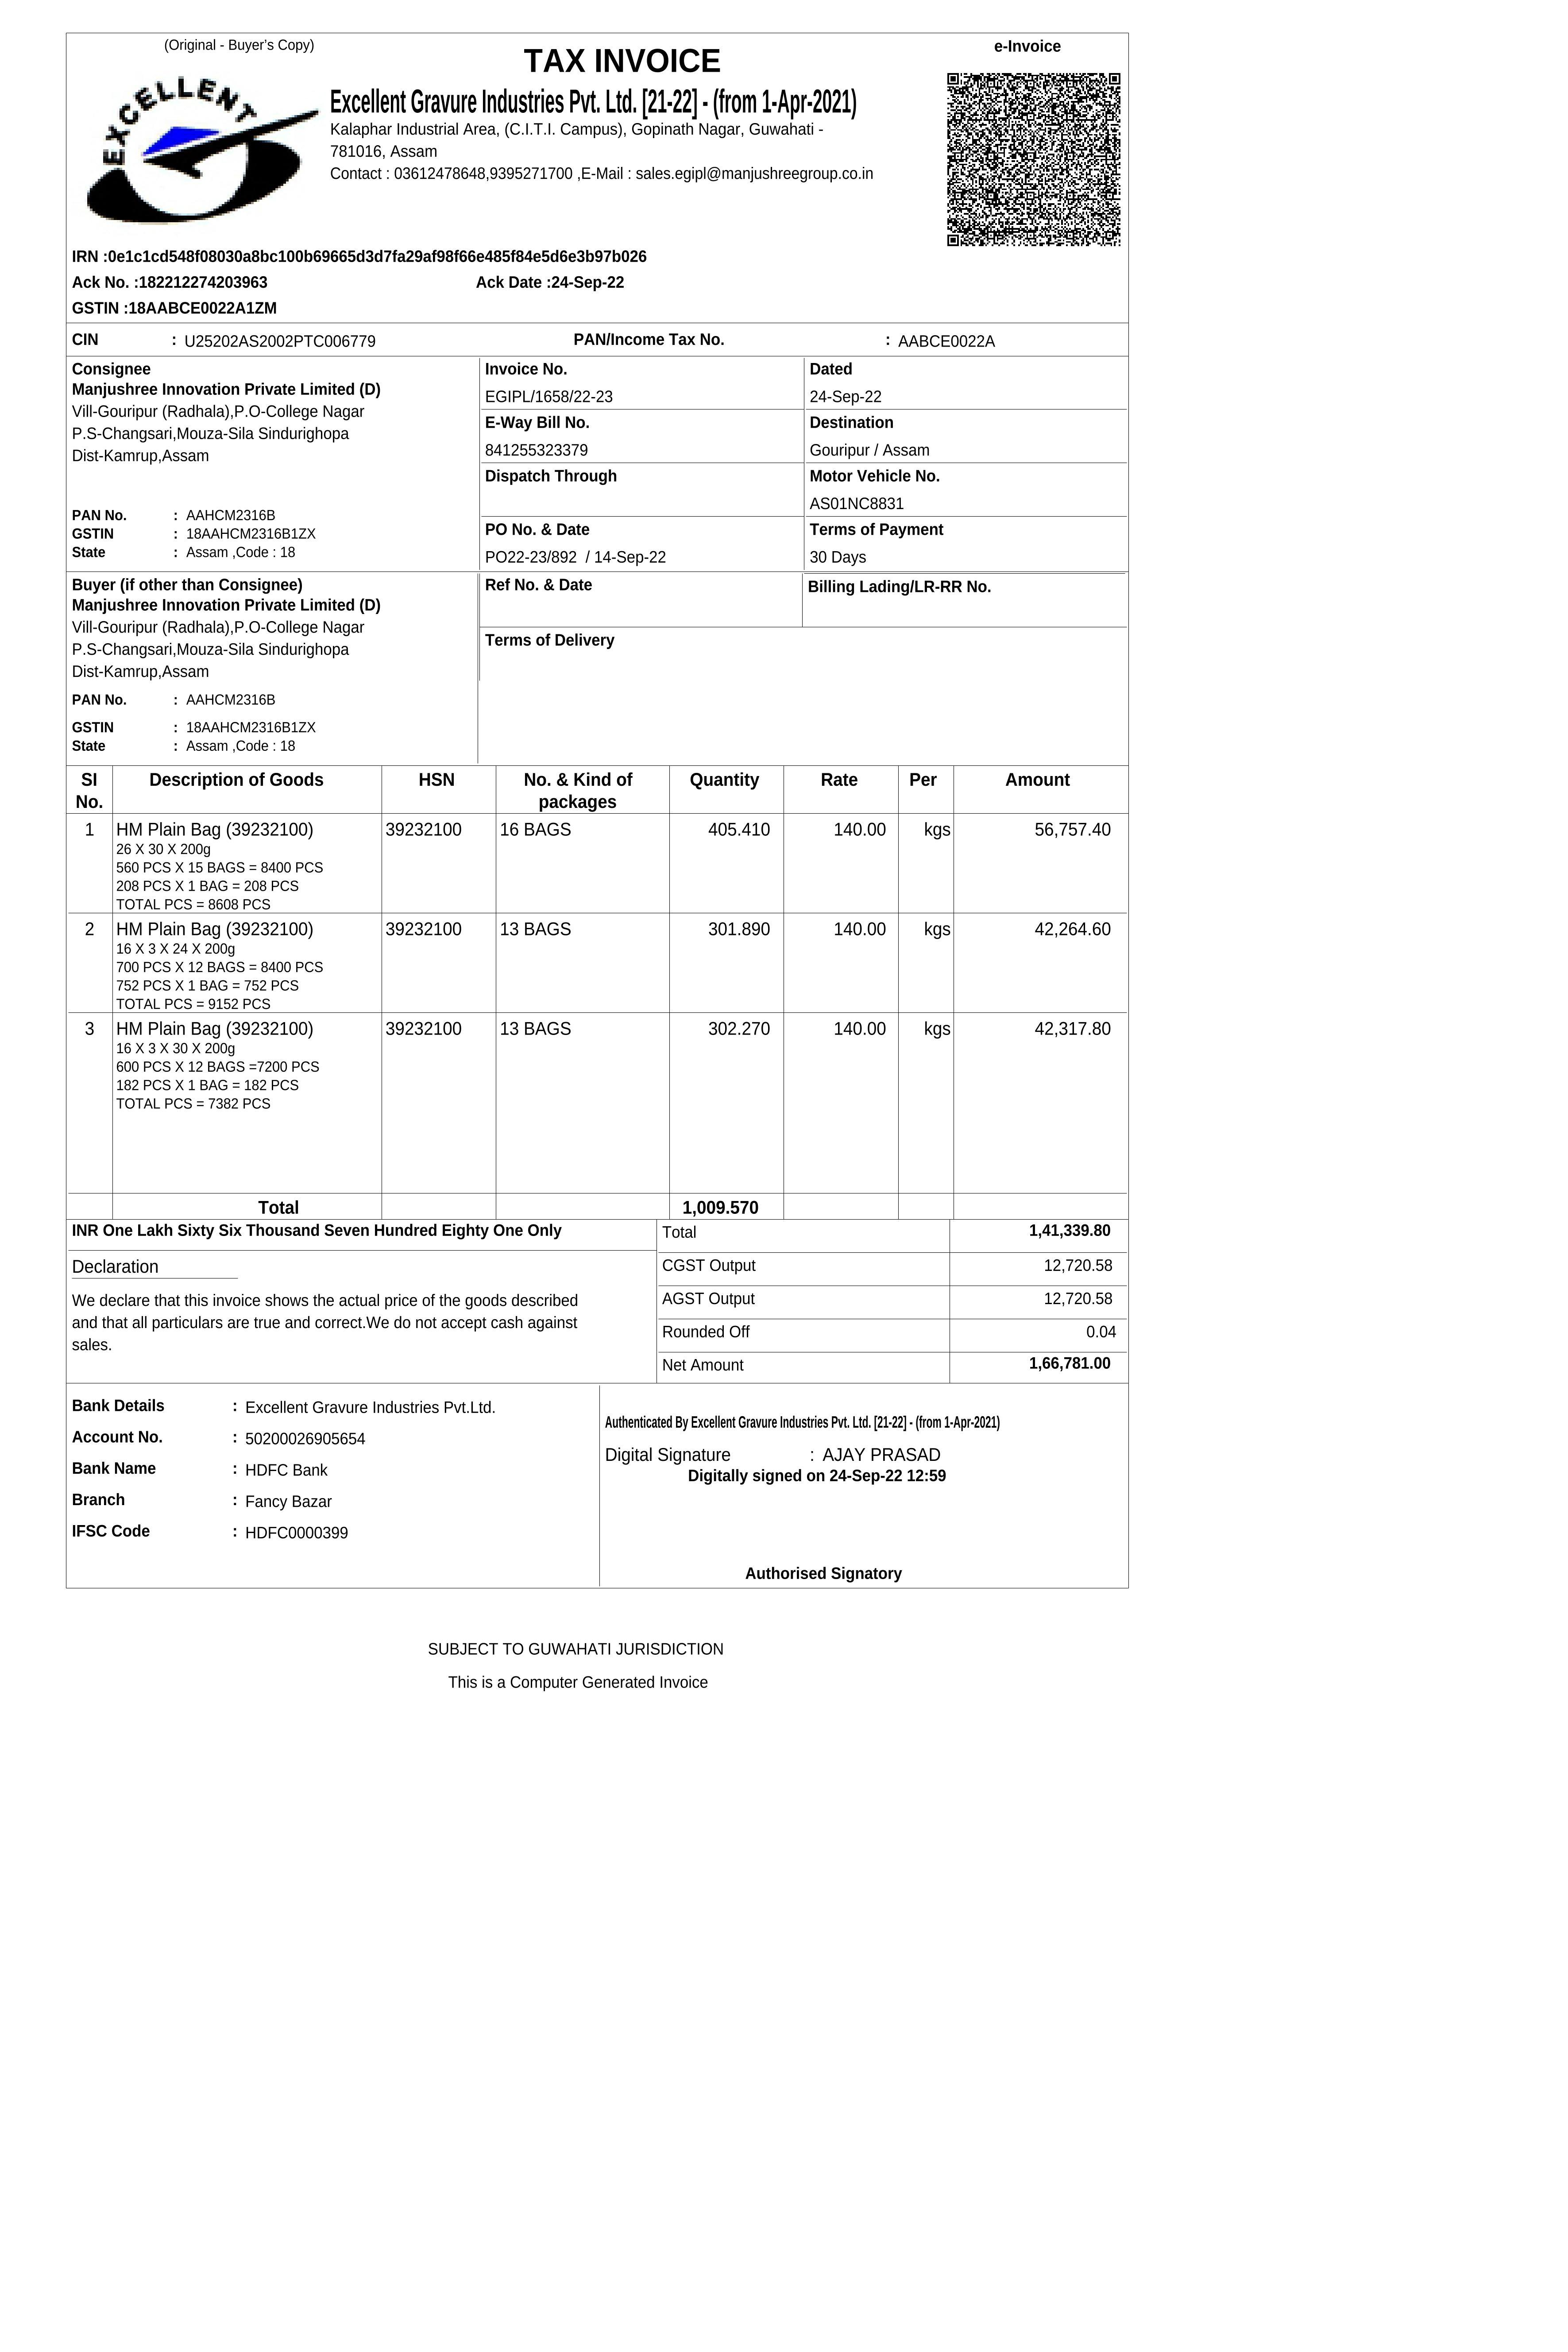InvoiceDate: (807, 383, 887, 409)
InvoiceNumber: (479, 380, 618, 409)
TotalAmount: (1024, 1351, 1116, 1375)
